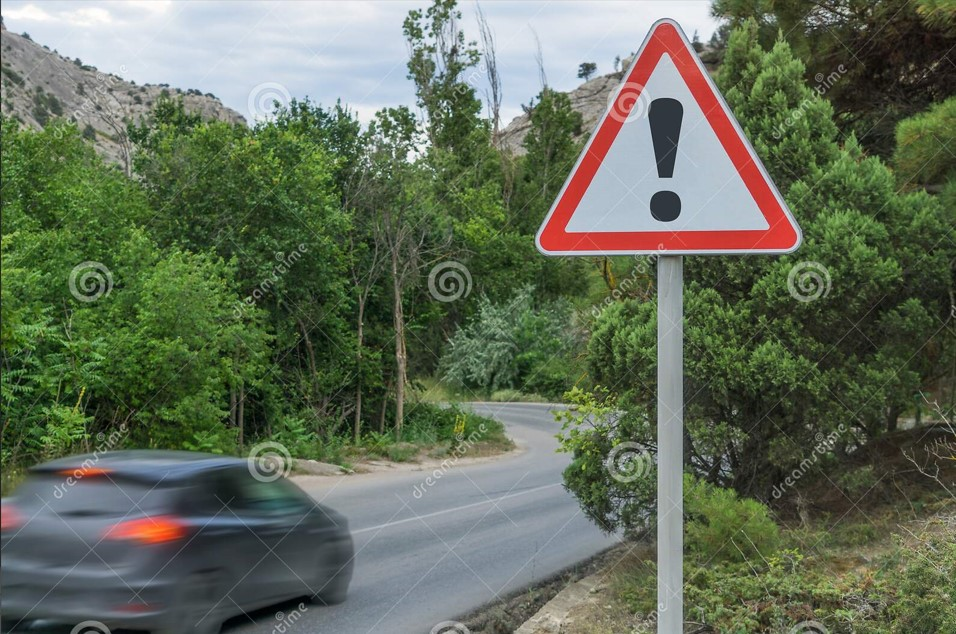Danger: (531, 11, 803, 269)
